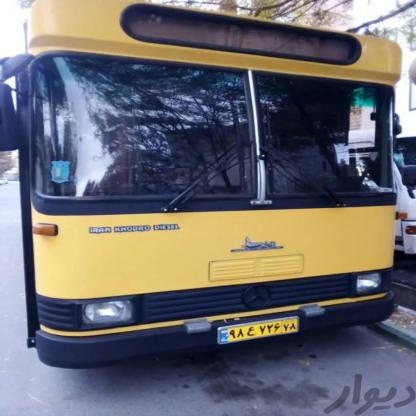Bus: (0, 0, 406, 348)
